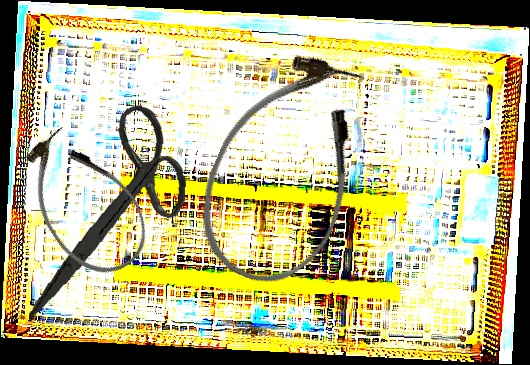Cannula: (178, 36, 392, 302), (5, 115, 164, 291)
Iris Scissors: (29, 98, 191, 329)
